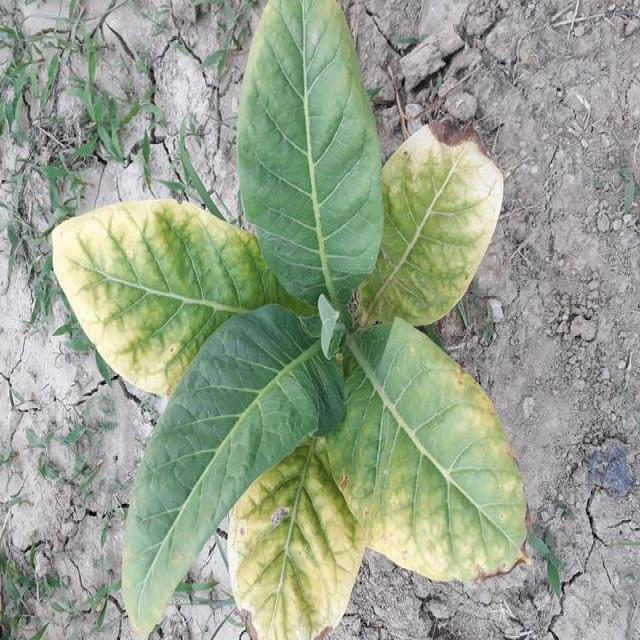crop: (48, 5, 543, 634)
